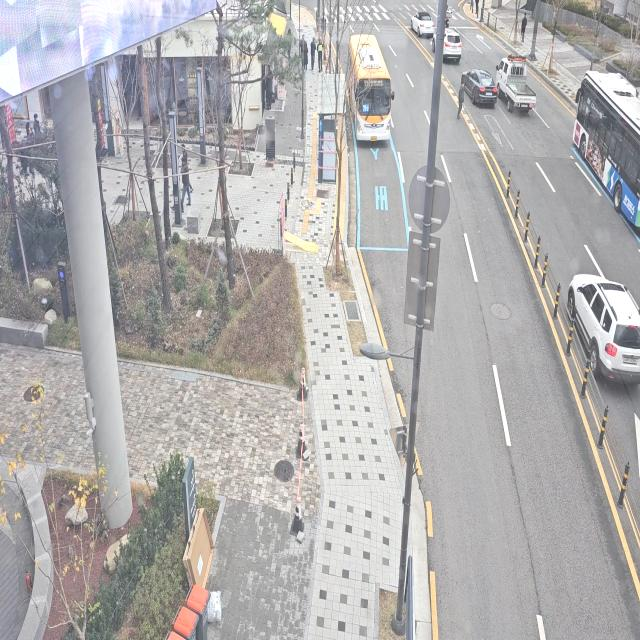Bus: (566, 62, 640, 242), (343, 26, 400, 154)
Car: (564, 264, 640, 408), (458, 54, 505, 110), (432, 32, 465, 62), (409, 9, 436, 40)
Motorcycle: (440, 4, 455, 35)
Truck: (492, 49, 539, 120)
